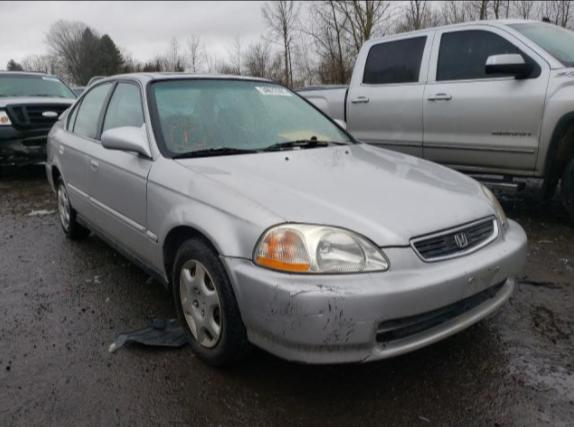Dent: (175, 207, 188, 225), (186, 176, 195, 199)
Flaking: (397, 229, 423, 244)
Paint chip: (258, 277, 390, 364)
Scratch: (466, 264, 505, 294), (289, 290, 328, 299), (300, 313, 325, 321), (357, 318, 375, 324), (360, 353, 372, 361)
